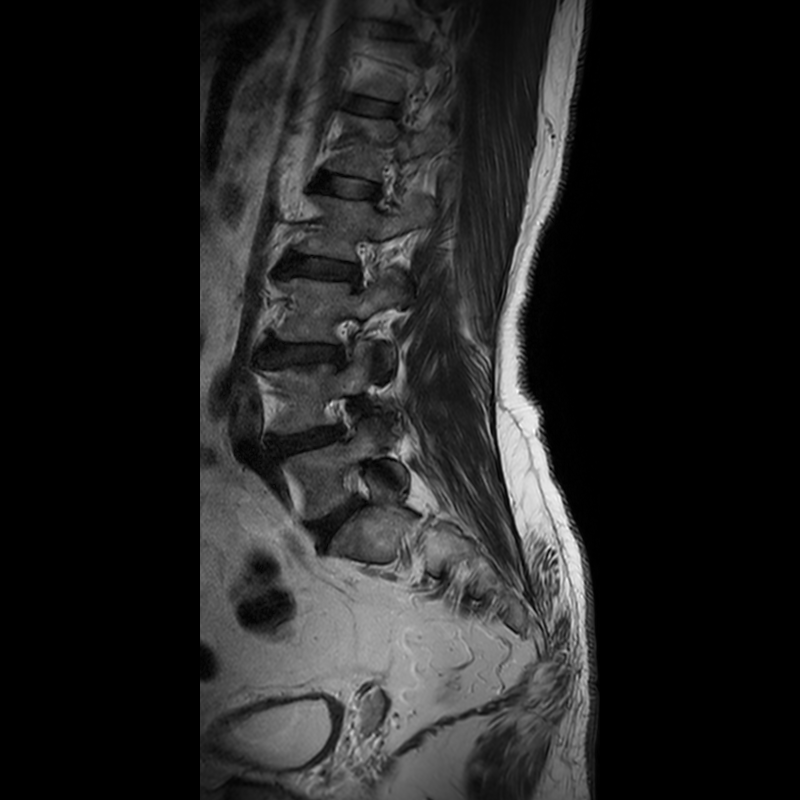RFS0: (317, 306, 375, 382), (317, 383, 375, 455), (331, 457, 383, 520)
